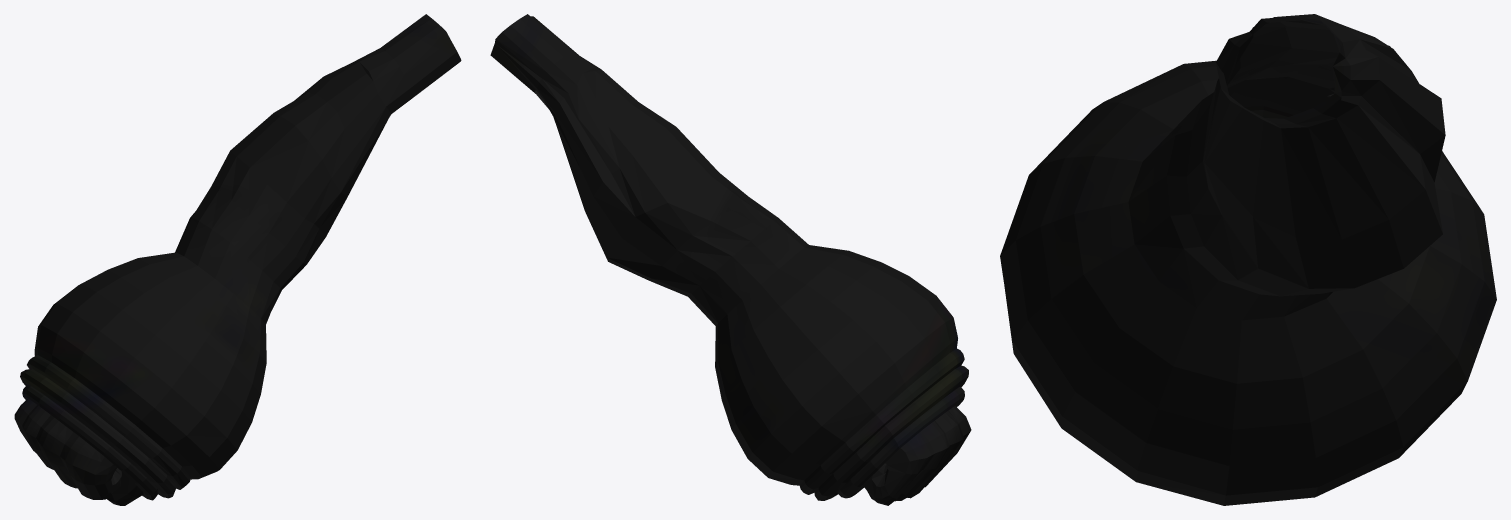
File: nikaluffy011_g14.fbx
The picture shows the model from 3 angles, left to right: view 1: azimuth 30°, elevation 25°; view 2: azimuth 150°, elevation 25°; view 3: azimuth 270°, elevation 25°; orthographic projection. The views are drawn at different scales.
Parts seen in each view (by area): view 1: nikaluffy011_g14_L0_cut; view 2: nikaluffy011_g14_L0_cut; view 3: nikaluffy011_g14_L0_cut.
Part boxes in pixels (bbox=[...]): nikaluffy011_g14_L0_cut: bbox=[14, 14, 461, 505]; nikaluffy011_g14_L0_cut: bbox=[490, 14, 971, 505]; nikaluffy011_g14_L0_cut: bbox=[1000, 14, 1496, 505].
Bounding box in the file's own units: 1.01 × 0.8742 × 0.5171.
